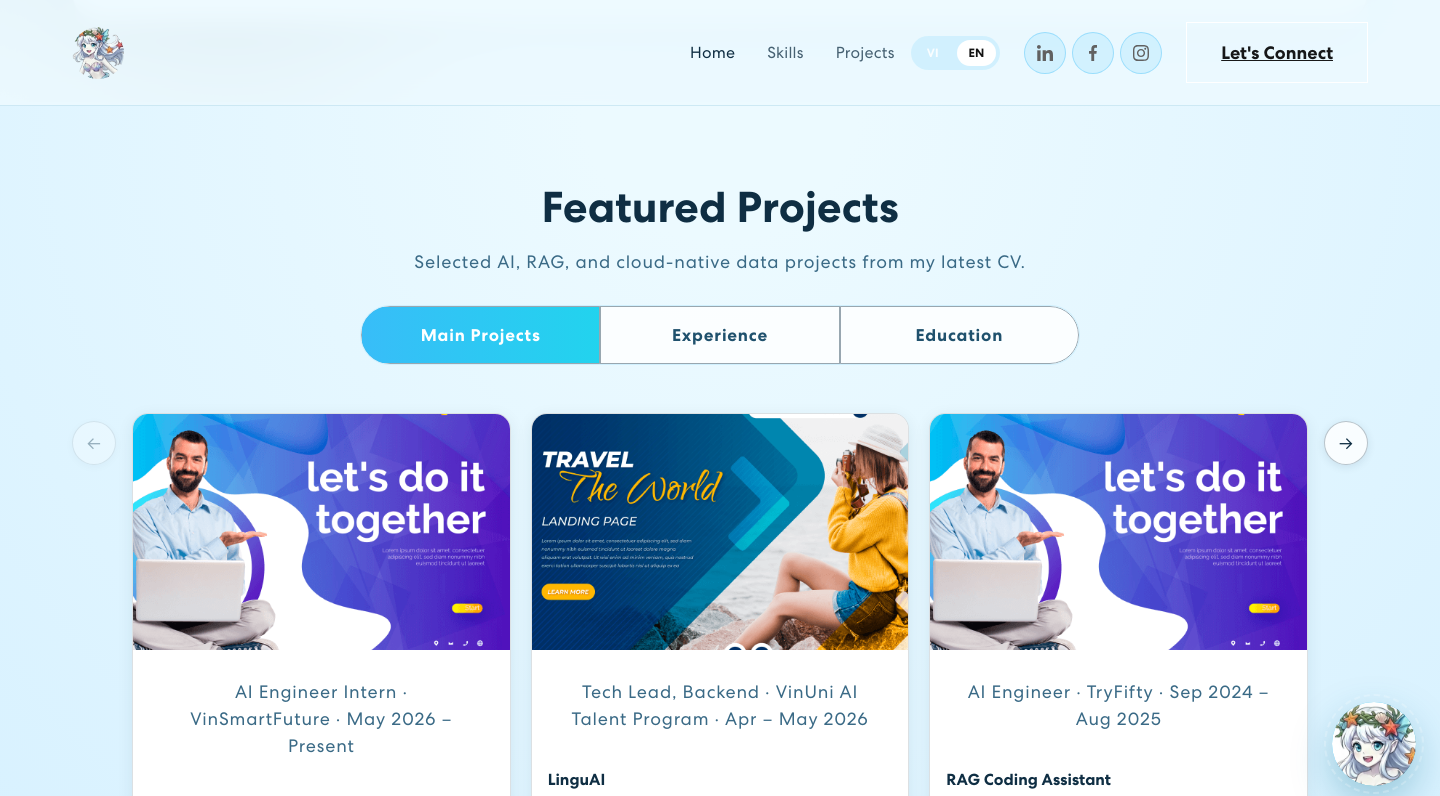
Test: next page shows Binance and disables next arrow in English
The width and height of the screenshot is (1440, 796).
(page scrolled)
Click the button named "next page" at (1346, 443), box [1324,421,1368,465]
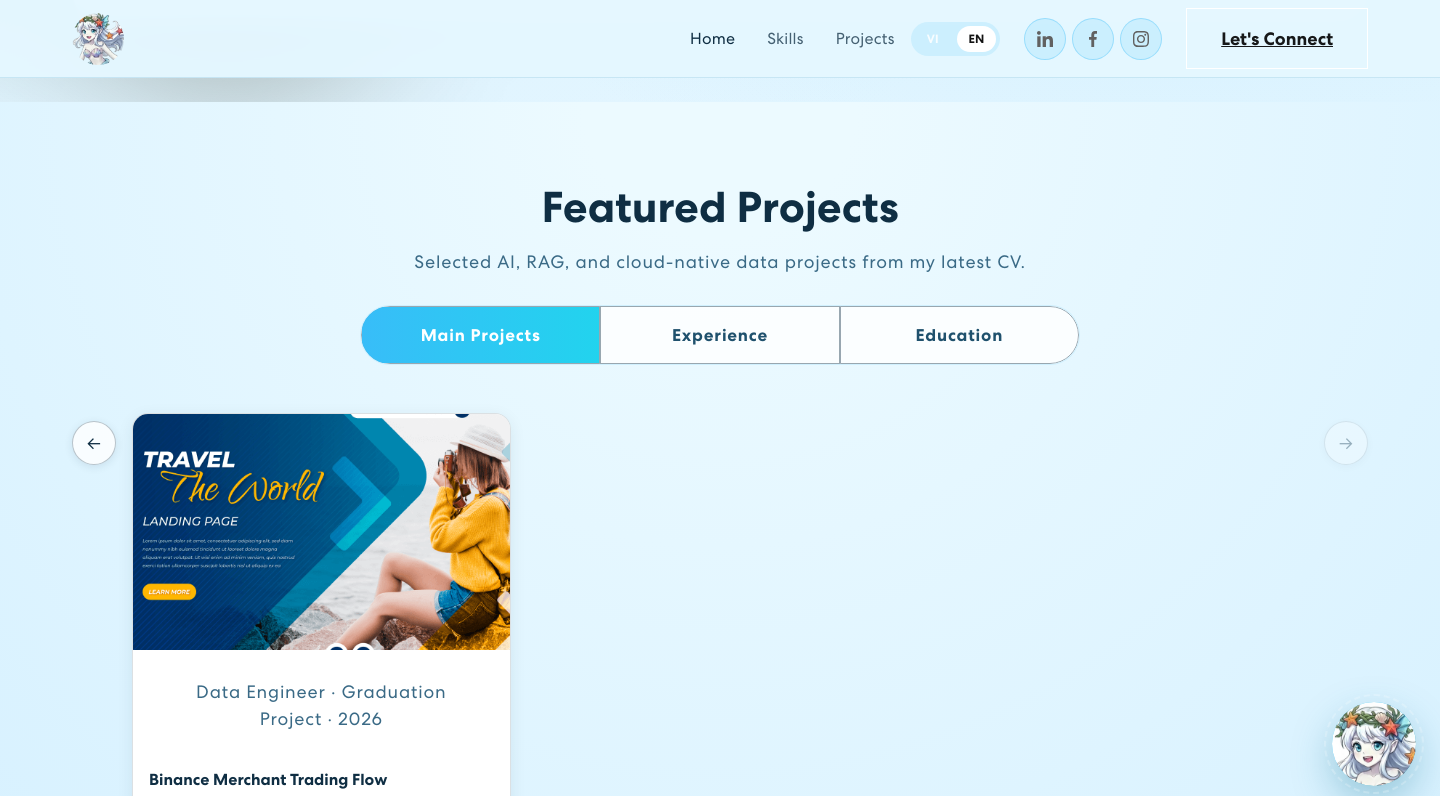
Expected: the heading "Binance Merchant Trading Flow" is shown, [149,769,387,790]
Expected: the button named "previous page" is enabled, [72,421,116,465]
Expected: the button named "next page" is disabled, [1324,421,1368,465]
